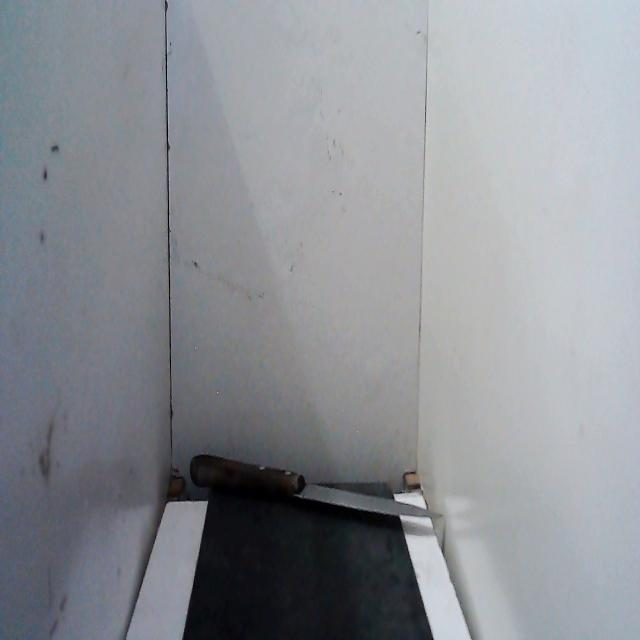metal: (294, 468, 447, 529)
